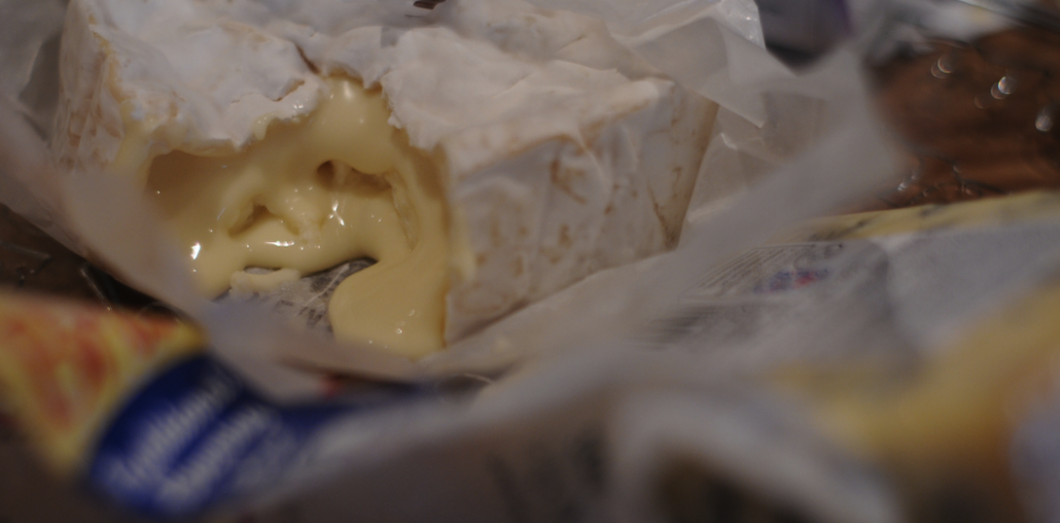camembert: (50, 5, 724, 358)
